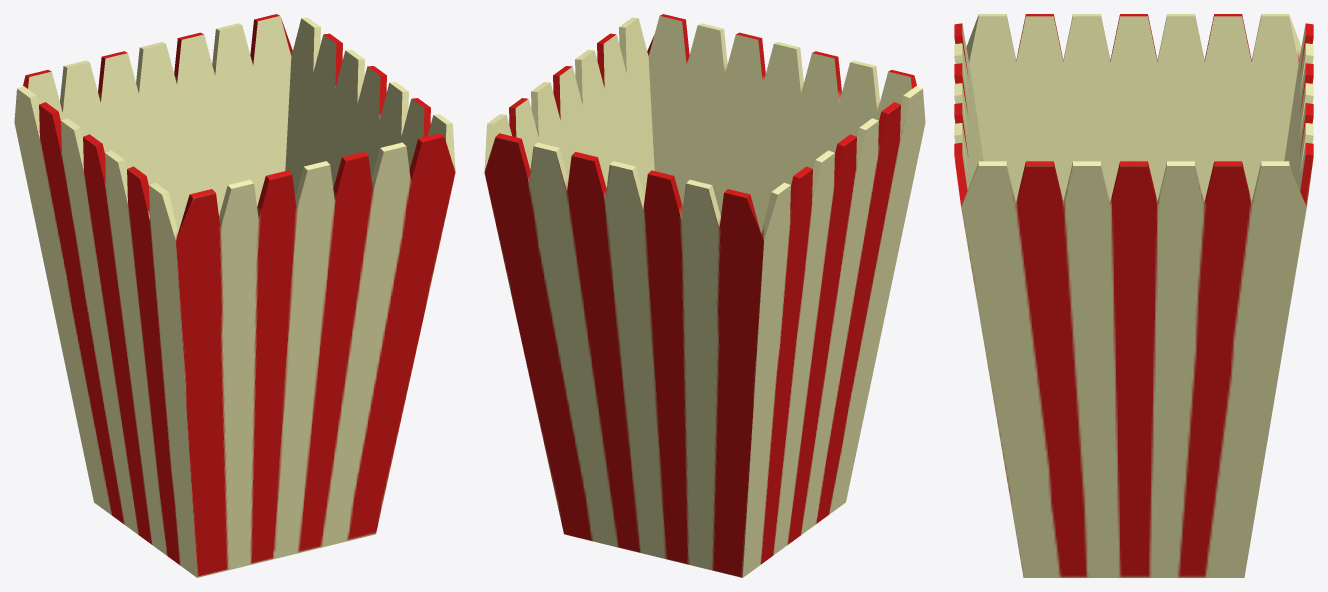
The model's file is CAJA_CANCHITA.fbx.
3 views of the same model, side by side, from view 1: azimuth 30°, elevation 25°; view 2: azimuth 150°, elevation 25°; view 3: azimuth 270°, elevation 25° (orthographic). The views are drawn at different scales.
Visible parts, largest first — view 1: popcorn_low; view 2: popcorn_low; view 3: popcorn_low.
Part boxes in pixels (x1,y1,x2,y2): popcorn_low: [14, 14, 455, 577]; popcorn_low: [484, 14, 925, 577]; popcorn_low: [954, 14, 1313, 577].
Size of the model in its own units: 2.94 by 3.98 by 2.94.
